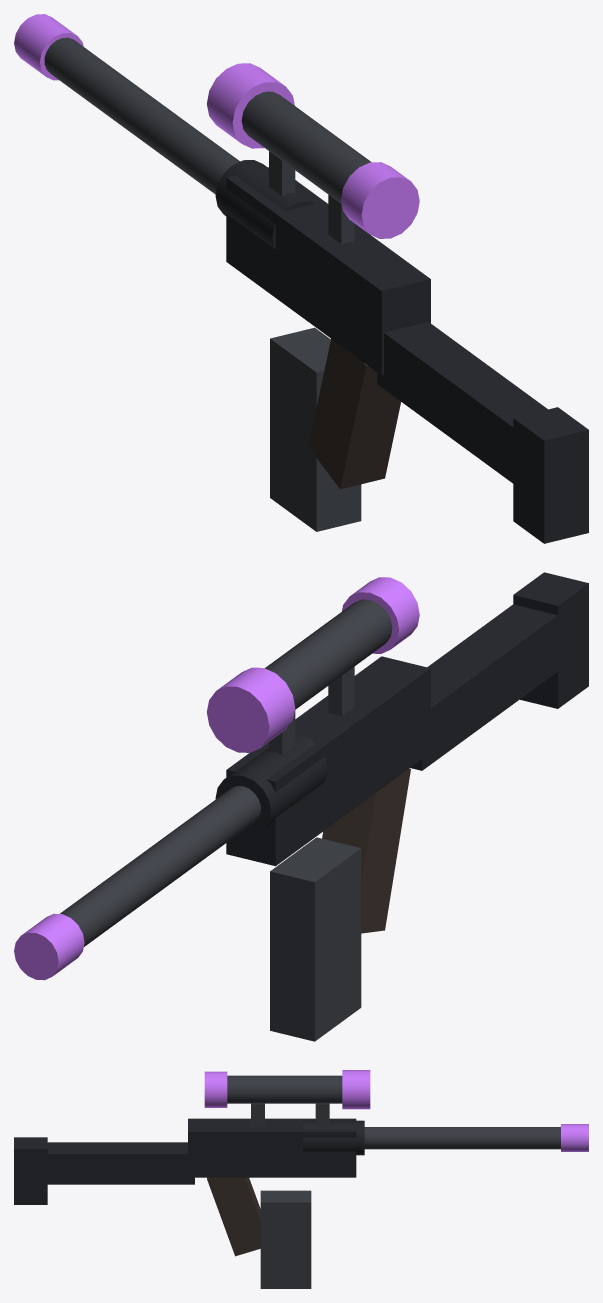
File: sniper.glb
The picture shows the model from 3 angles, top to bottom: view 1: azimuth 30°, elevation 25°; view 2: azimuth 150°, elevation 25°; view 3: azimuth 270°, elevation 25°; orthographic projection. The views are drawn at different scales.
Parts seen in each view (by area): view 1: sniper; view 2: sniper; view 3: sniper.
Part boxes in pixels (<box>): sniper: <box>14,14,588,543</box>; sniper: <box>14,572,588,1041</box>; sniper: <box>14,1070,588,1288</box>.
Size of the model in its own units: 0.14 by 0.83 by 2.05.
